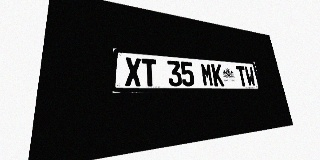3: (167, 60, 182, 86)
5: (180, 61, 195, 86)
K: (211, 64, 224, 86)
M: (200, 63, 214, 86)
T: (141, 58, 158, 86), (235, 65, 248, 86)
W: (244, 66, 256, 86)
X: (125, 57, 142, 86)
